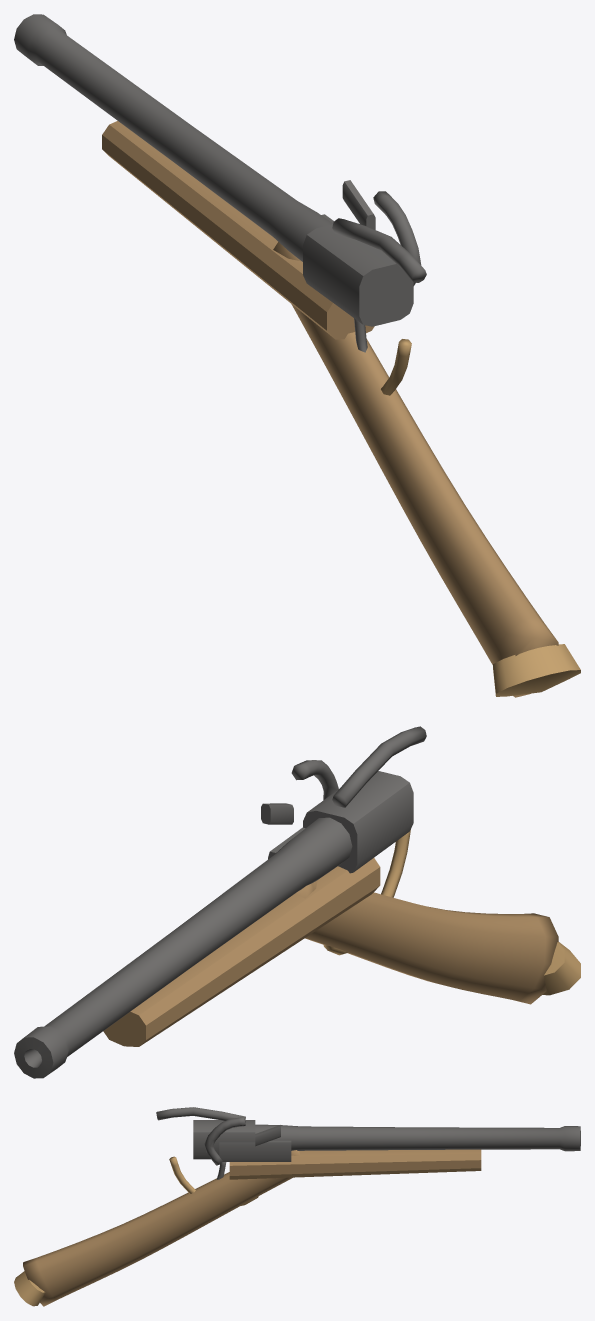
Rendered from breech-loader.glb.
3 renders of one model, top to bottom at view 1: azimuth 30°, elevation 25°; view 2: azimuth 150°, elevation 25°; view 3: azimuth 270°, elevation 25°, orthographic. The views are drawn at different scales.
Visible parts, largest first — view 1: breech-loader; view 2: breech-loader; view 3: breech-loader.
Boxes of the visible parts, box(x1,y1,x2,y2) form: breech-loader: box(14, 14, 580, 697); breech-loader: box(14, 726, 580, 1078); breech-loader: box(14, 1107, 580, 1306).
Size of the model in its own units: 0.1111 by 0.4237 by 1.1.
